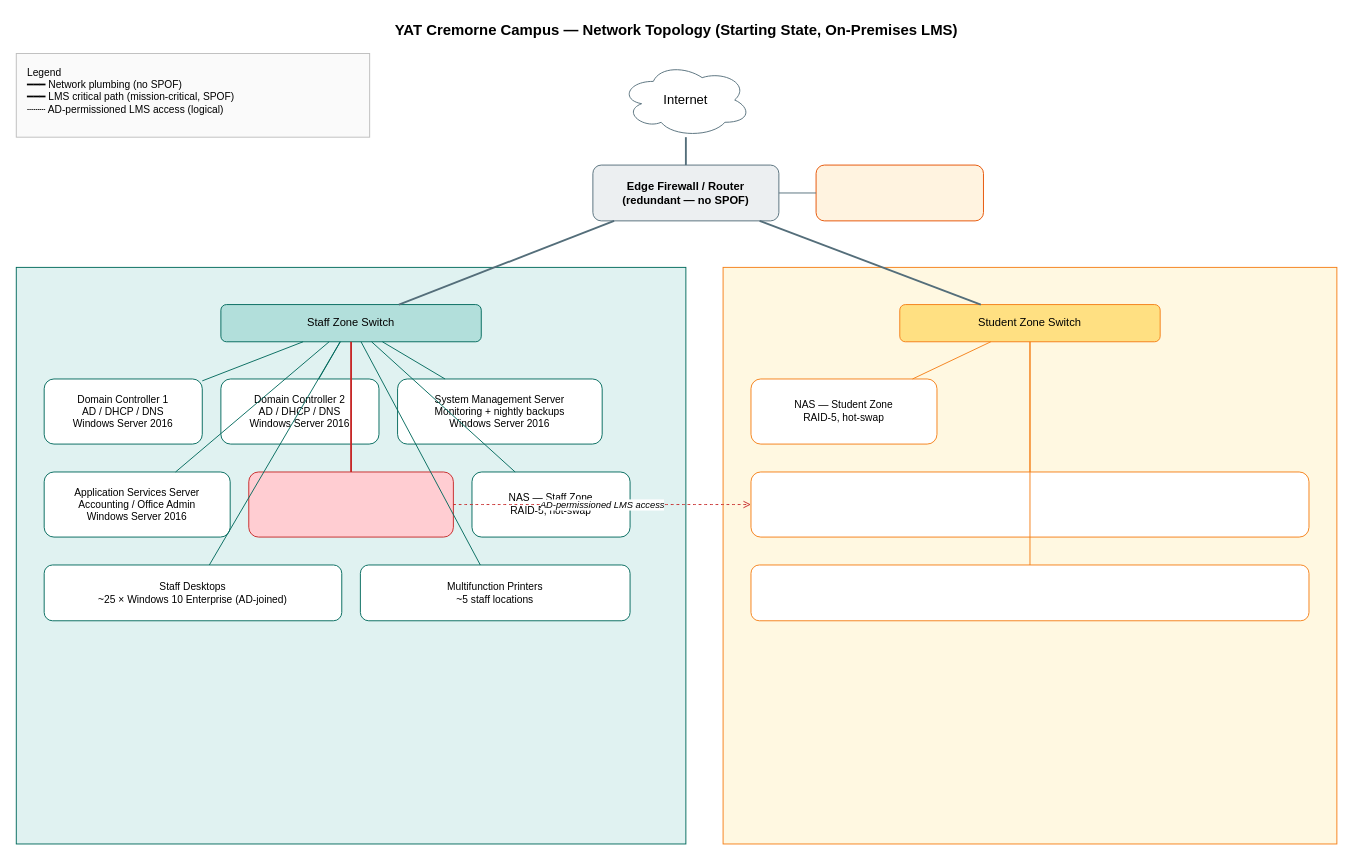
Some shapes in this 1353 by 860 pixel diagram are drawn without their labels. The shapes that lost their labels are listed below. From the top down, each one's box as (x1, y1, x2, y2) in pixels, then its label:
(815, 164, 983, 221): VPN Server (staff-only remote access) SPOF
(248, 471, 453, 537): LMS Server DOODLE + MySQL Windows Server 2016 ⚠ EOL · MISSION CRITICAL · SPOF
(750, 471, 1309, 537): Student Desktops ~80 × Windows 10 Enterprise + O365 Education AD-joined
(15, 266, 686, 844): Staff Network Zone
(722, 266, 1337, 844): Student Network Zone
(750, 564, 1309, 621): Classroom Printers ~15 — one per classroom
